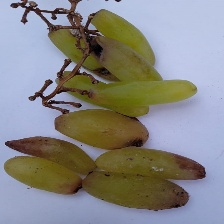grapes: (27, 49, 173, 200)
